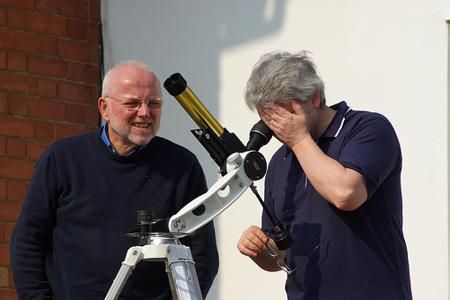person: (237, 50, 414, 299)
